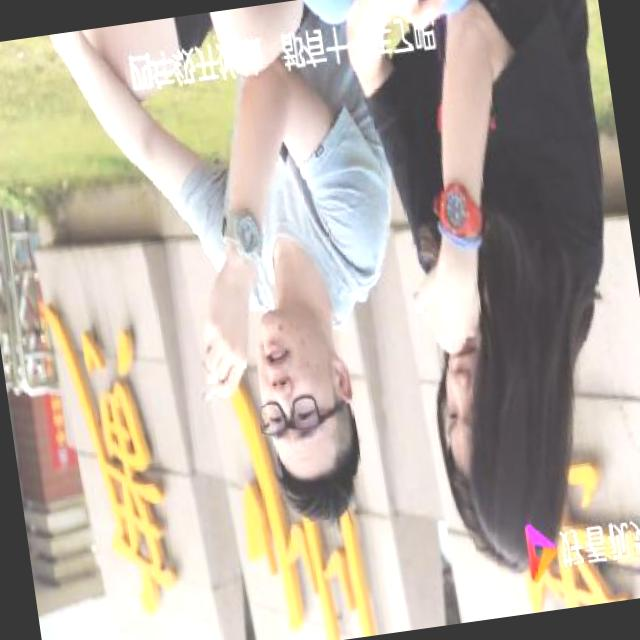smoke: (195, 373, 232, 416)
